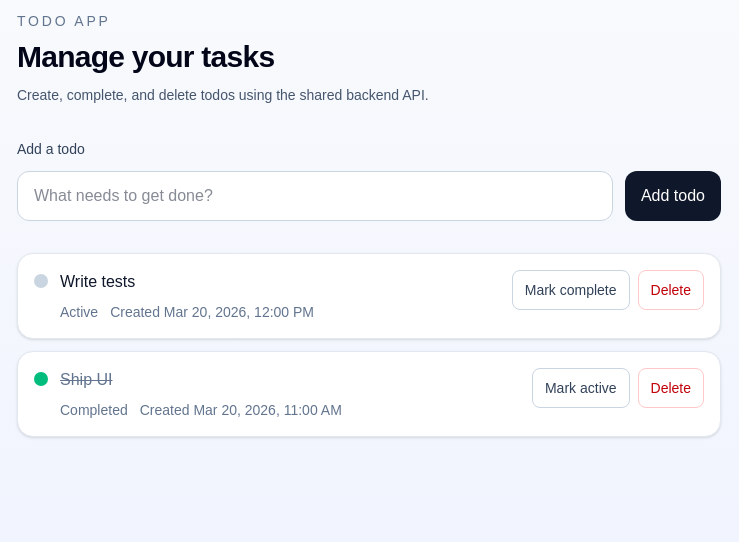
TodoApp › reverts optimistic toggle on API failure
The image size is (739, 542).
Expected: the text "Write tests" is shown, 60,273 -> 135,290
Click the button "Mark complete". click: coordinates (571, 290)
box: 512,270 -> 630,310
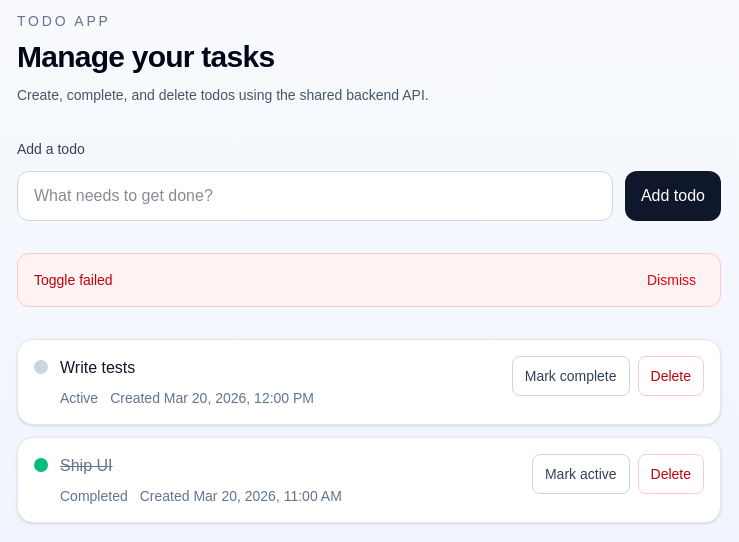
Expected: the button "Mark complete" is enabled, 512,356 -> 630,396
Now the text "Toggle failed" is shown, box 34,270 -> 113,290
